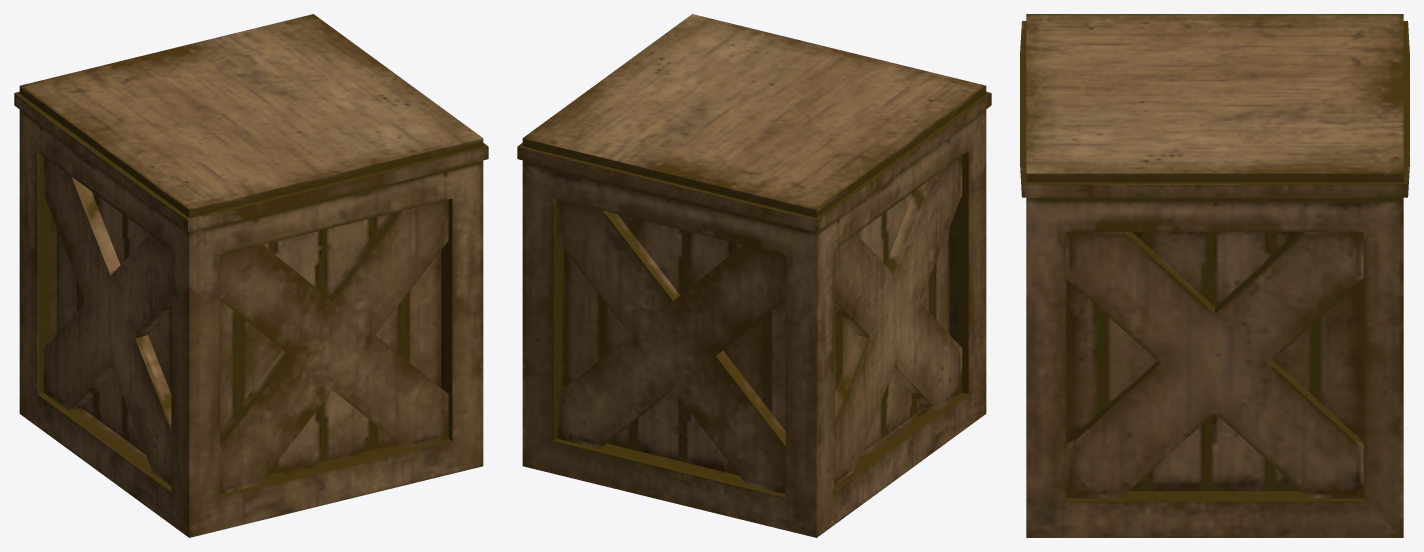
Rendered from Wooden crate.fbx.
3 views of the same model, side by side, from view 1: azimuth 30°, elevation 25°; view 2: azimuth 150°, elevation 25°; view 3: azimuth 270°, elevation 25° (orthographic). The views are drawn at different scales.
Parts seen in each view (by area): view 1: Cube.003; view 2: Cube.003; view 3: Cube.003.
Part boxes in pixels (x1,y1,x2,y2): Cube.003: (14, 14, 488, 537); Cube.003: (517, 14, 991, 537); Cube.003: (1020, 14, 1409, 537).
Bounding box in the file's own units: 84.6 × 87.3 × 84.6.
